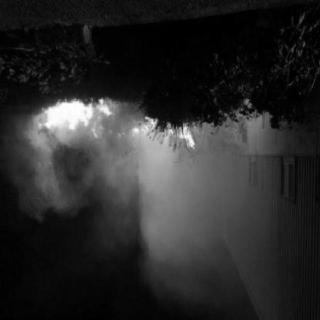Fire: (38, 95, 205, 161)
